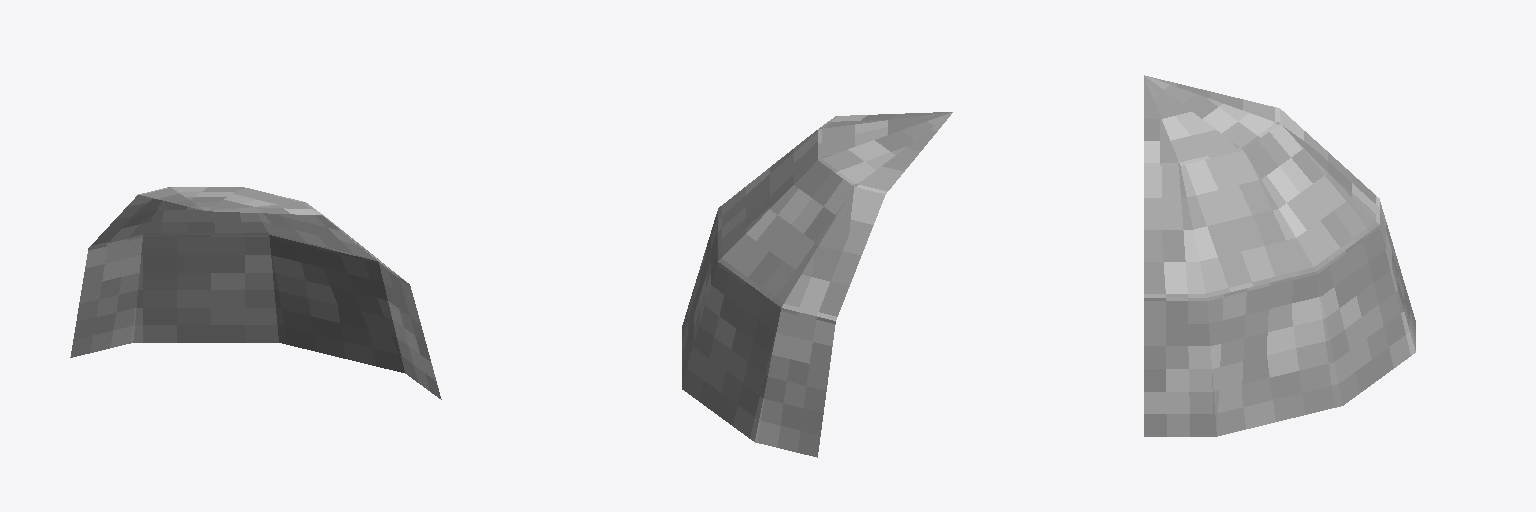
3 renders of one model, left to right at view 1: azimuth 30°, elevation 25°; view 2: azimuth 150°, elevation 25°; view 3: azimuth 270°, elevation 25°, orthographic.
Parts seen in each view (by area): view 1: sphere; view 2: sphere; view 3: sphere.
Part boxes in pixels (x1,y1,x2,y2): sphere: (70,187,441,399); sphere: (682,112,952,457); sphere: (1144,75,1415,436).
Bounding box in the file's own units: 1 × 1 × 1.
1 materials, 1 textured.